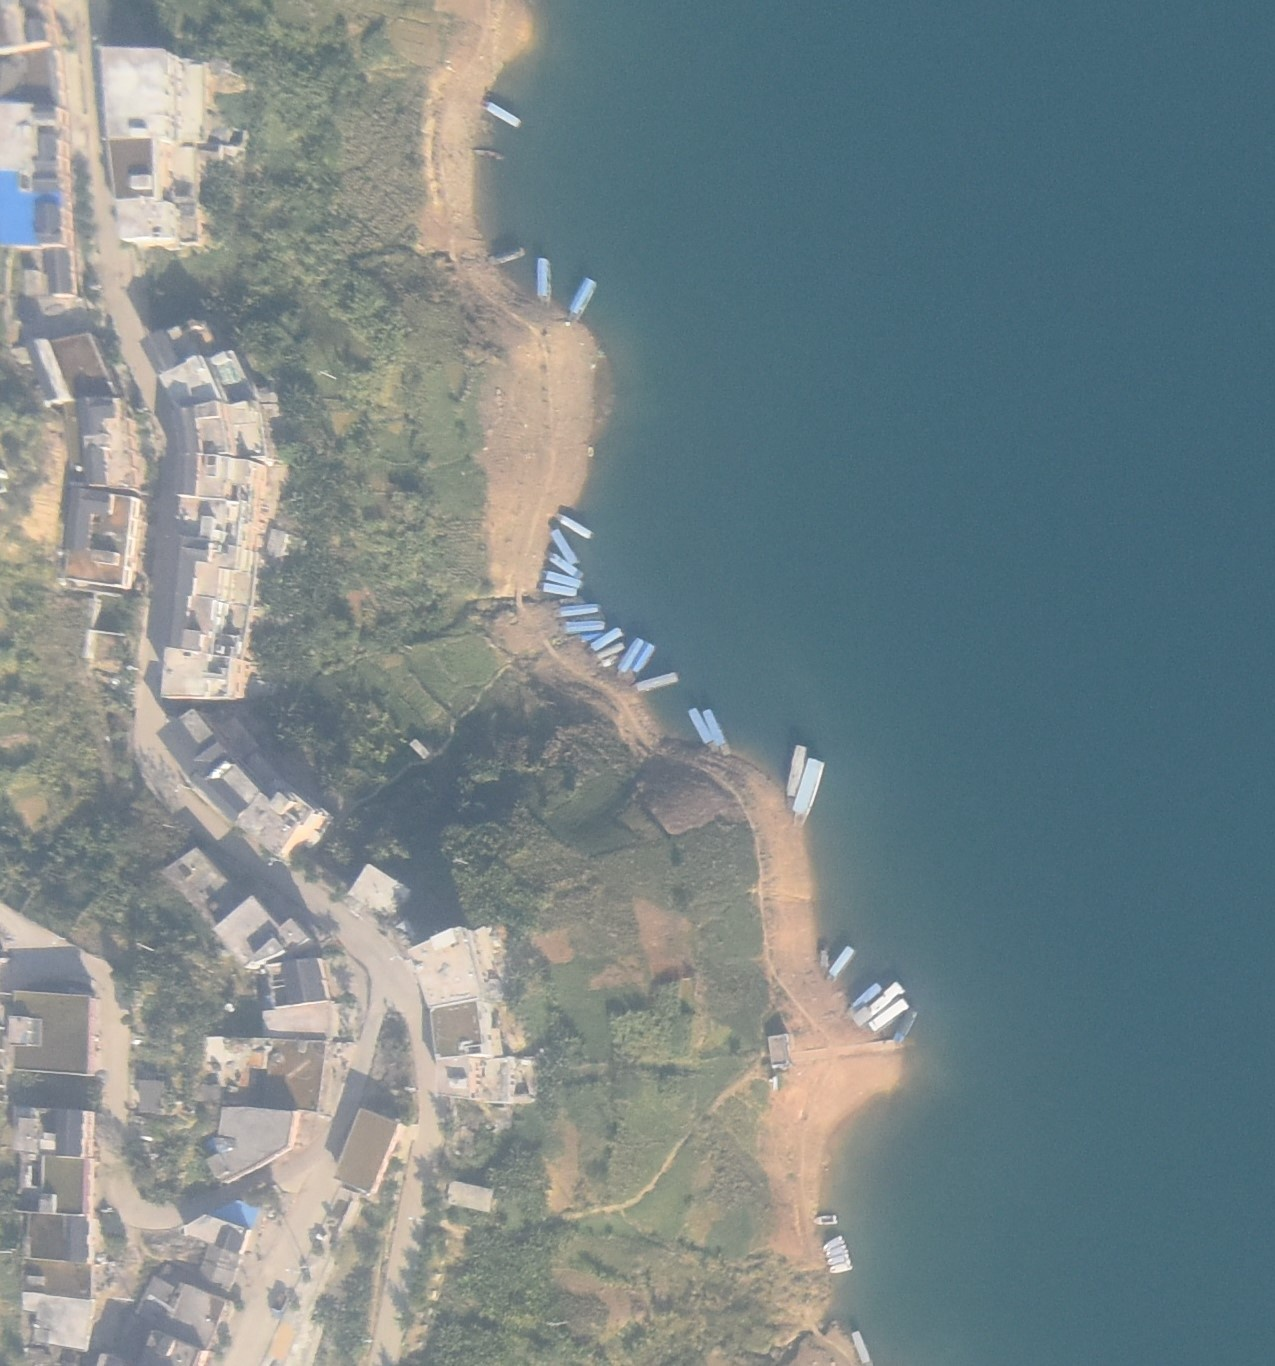building: (100, 41, 249, 253), (1, 41, 91, 248), (202, 1035, 330, 1180), (162, 849, 311, 968), (208, 762, 336, 869), (163, 546, 251, 698), (162, 348, 281, 458), (97, 1274, 226, 1366), (1, 994, 103, 1100), (58, 482, 143, 593), (160, 453, 245, 546), (25, 331, 115, 405), (257, 960, 339, 1038), (74, 594, 145, 682), (409, 925, 479, 1009), (78, 397, 145, 483), (333, 1109, 397, 1198), (437, 1058, 544, 1105), (19, 1291, 98, 1351), (15, 1208, 90, 1266), (138, 318, 219, 369), (10, 1109, 94, 1155), (347, 861, 413, 917), (199, 1226, 248, 1296), (19, 242, 77, 301), (33, 1158, 89, 1214), (427, 1005, 481, 1058), (217, 715, 262, 761), (445, 1177, 496, 1210), (246, 756, 289, 795), (175, 705, 214, 743), (267, 527, 305, 559), (136, 1079, 167, 1115), (192, 741, 228, 770), (764, 1035, 790, 1067), (408, 736, 428, 760)
ship: (857, 979, 904, 1022), (797, 757, 825, 826), (566, 277, 598, 328), (688, 706, 719, 751), (702, 709, 732, 754), (870, 997, 908, 1032), (485, 97, 522, 131), (846, 981, 880, 1017), (785, 741, 806, 798), (551, 531, 581, 566), (616, 636, 642, 676), (632, 669, 678, 689), (831, 943, 855, 980), (549, 553, 582, 579), (557, 517, 595, 539), (591, 625, 623, 650), (893, 1009, 917, 1042), (632, 642, 655, 675), (852, 1327, 872, 1364), (545, 568, 582, 587), (543, 579, 580, 598), (470, 144, 507, 162), (487, 248, 524, 264), (539, 255, 551, 304), (559, 604, 597, 618), (563, 622, 605, 634), (811, 1212, 839, 1228), (595, 644, 627, 657), (824, 1244, 849, 1258), (823, 1233, 845, 1248), (820, 941, 828, 979), (826, 1264, 853, 1274), (599, 655, 625, 665), (825, 1257, 850, 1265), (581, 632, 600, 641)
well: (221, 1002, 236, 1014)
